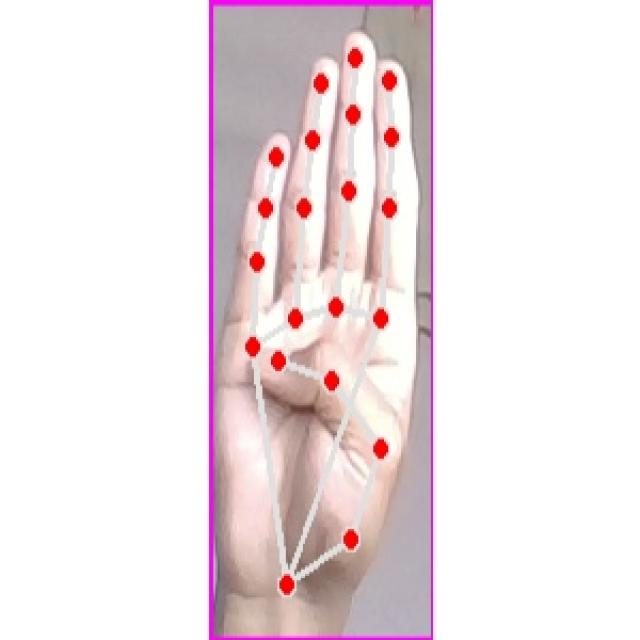B: (219, 18, 423, 620)
